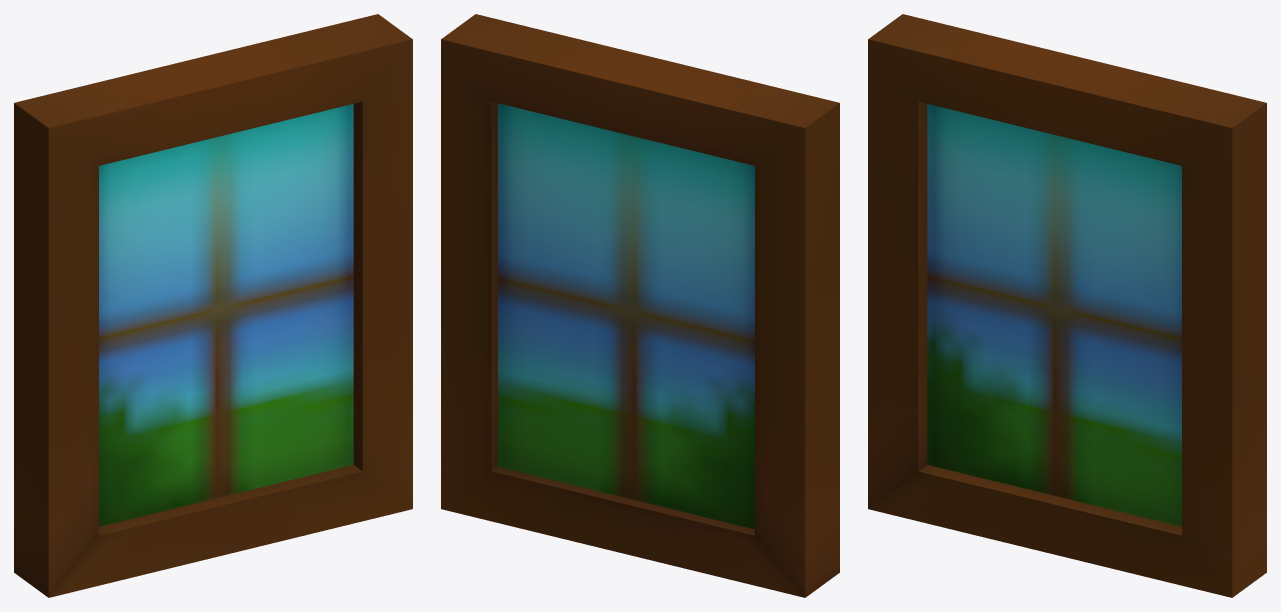
File: Windown.gltf
3 views of the same model, side by side, from view 1: azimuth 30°, elevation 25°; view 2: azimuth 150°, elevation 25°; view 3: azimuth 330°, elevation 25° (orthographic).
Visible parts, largest first — view 1: Windown; view 2: Windown; view 3: Windown.
Part boxes in pixels (x1,y1,x2,y2): Windown: (14, 14, 412, 597); Windown: (441, 14, 839, 597); Windown: (868, 14, 1266, 597).
Bounding box in the file's own units: 36.67 × 45.2 × 6.05.
Materials: 1 (1 with a texture image).
